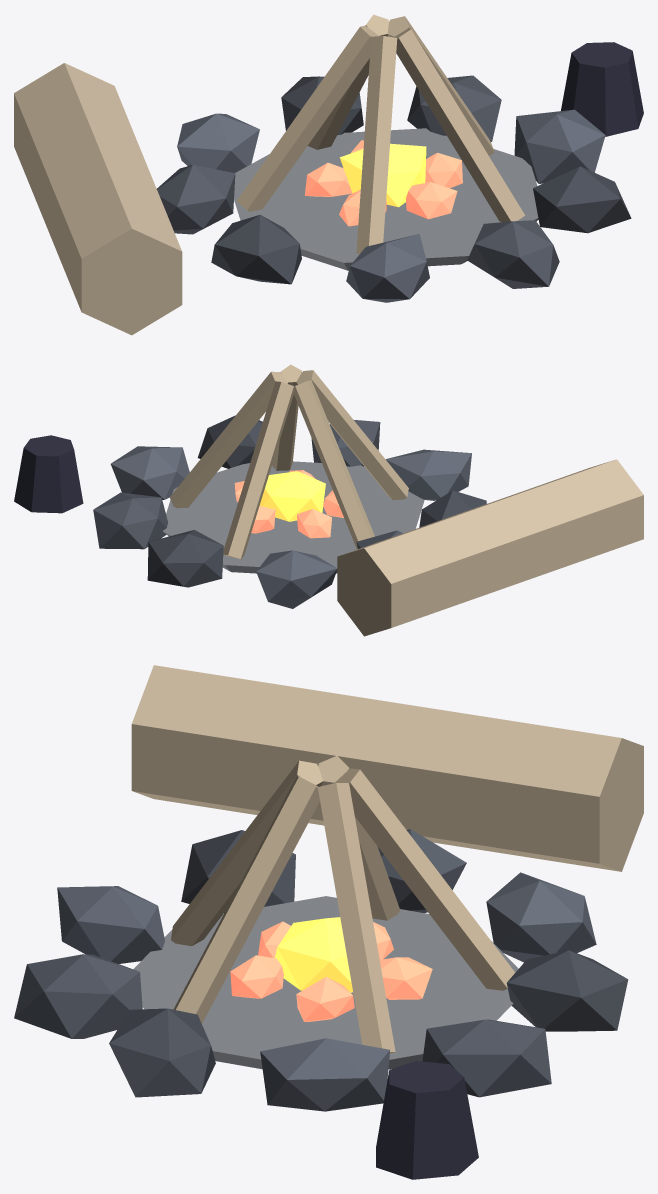
File: drift_fire.glb
3 renders of one model, top to bottom at view 1: azimuth 30°, elevation 25°; view 2: azimuth 150°, elevation 25°; view 3: azimuth 270°, elevation 25°, orthographic. The views are drawn at different scales.
Parts seen in each view (by area): view 1: driftwood_l20, driftwood_l15, silverfog_d30, slate_d5, slate_d20, slate_d30, ink_l10, coal_l10_glow, ember_glow; view 2: driftwood_l20, driftwood_l15, silverfog_d30, slate_d5, slate_d30, slate_d20, ink_l10, ember_glow, coal_l10_glow; view 3: driftwood_l20, driftwood_l15, silverfog_d30, slate_d5, slate_d30, slate_d20, ink_l10, coal_l10_glow, ember_glow.
Boxes of the visible parts, x1=… form: driftwood_l20: x1=14, y1=63, x2=182, y2=335; driftwood_l15: x1=237, y1=14, x2=524, y2=254; silverfog_d30: x1=234, y1=128, x2=538, y2=270; slate_d5: x1=177, y1=109, x2=605, y2=302; slate_d20: x1=157, y1=75, x2=559, y2=288; slate_d30: x1=211, y1=76, x2=631, y2=284; ink_l10: x1=561, y1=42, x2=643, y2=136; coal_l10_glow: x1=305, y1=140, x2=462, y2=226; ember_glow: x1=339, y1=143, x2=426, y2=207; driftwood_l20: x1=337, y1=459, x2=643, y2=636; driftwood_l15: x1=170, y1=364, x2=408, y2=559; silverfog_d30: x1=163, y1=461, x2=424, y2=573; slate_d5: x1=110, y1=446, x2=471, y2=608; slate_d30: x1=147, y1=415, x2=486, y2=587; slate_d20: x1=93, y1=420, x2=402, y2=549; ink_l10: x1=14, y1=435, x2=83, y2=513; ember_glow: x1=259, y1=471, x2=325, y2=521; coal_l10_glow: x1=234, y1=470, x2=343, y2=538; driftwood_l20: x1=131, y1=665, x2=643, y2=871; driftwood_l15: x1=171, y1=756, x2=515, y2=1053; silverfog_d30: x1=133, y1=896, x2=518, y2=1069; slate_d5: x1=57, y1=872, x2=596, y2=1111; slate_d30: x1=109, y1=830, x2=628, y2=1097; slate_d20: x1=14, y1=829, x2=551, y2=1097; ink_l10: x1=376, y1=1061, x2=478, y2=1179; coal_l10_glow: x1=230, y1=921, x2=432, y2=1021; ember_glow: x1=275, y1=917, x2=352, y2=992.
Size of the model in its own units: 1.93 by 0.5659 by 1.28.
